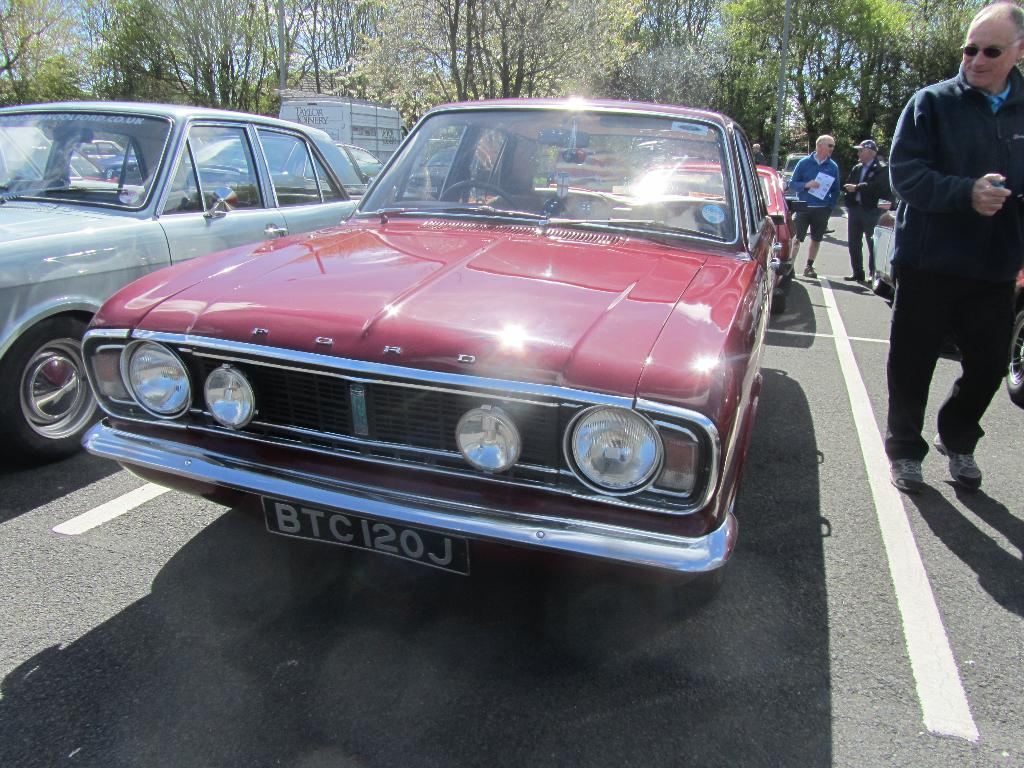Car: (80, 92, 785, 606), (0, 96, 369, 460)
